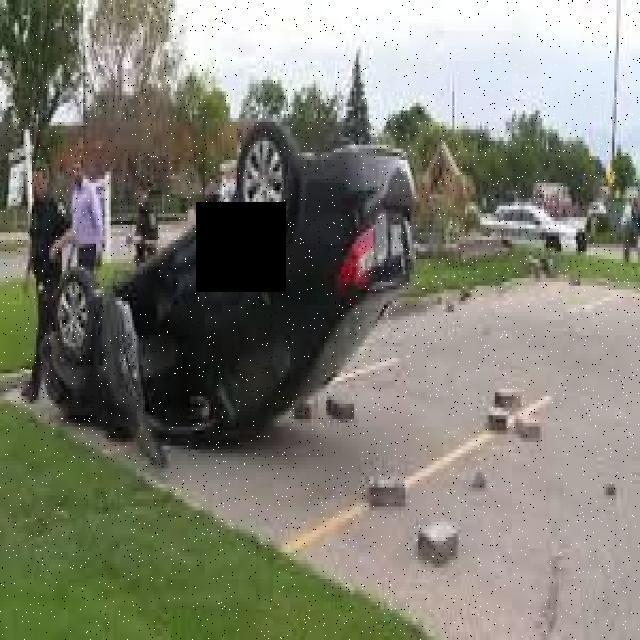accident: (30, 116, 423, 455)
